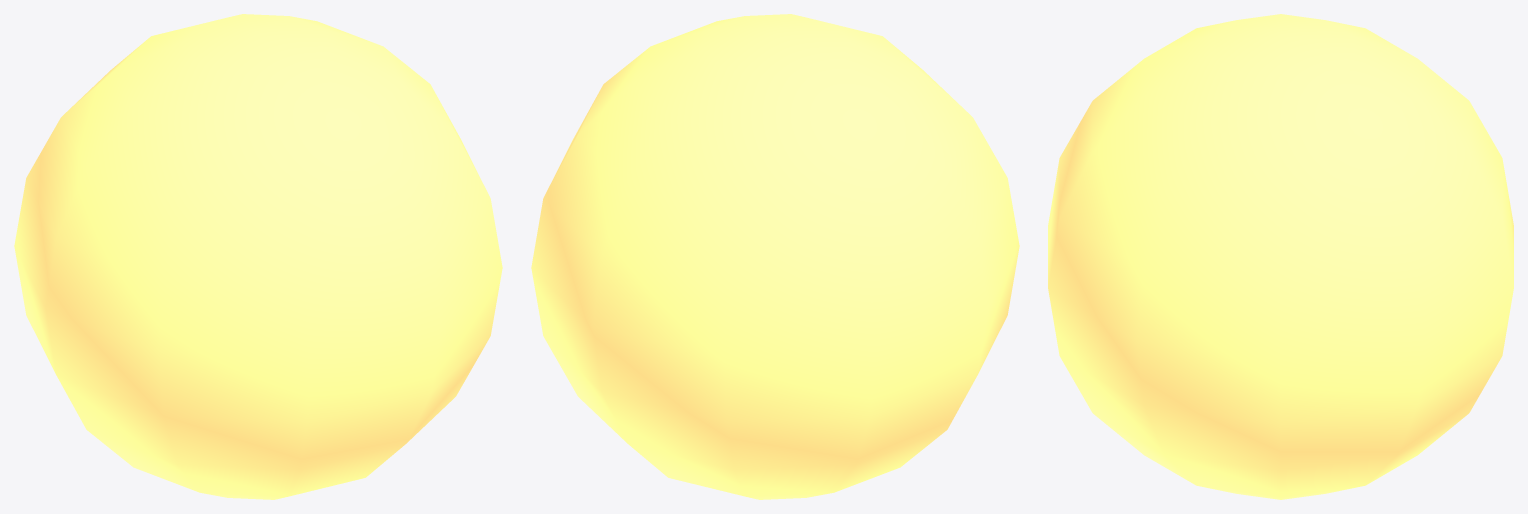
Rendered from wisp.glb.
The picture shows the model from 3 angles, left to right: view 1: azimuth 30°, elevation 25°; view 2: azimuth 150°, elevation 25°; view 3: azimuth 270°, elevation 25°; orthographic projection.
Size of the model in its own units: 0.2462 by 0.2462 by 0.2342.
